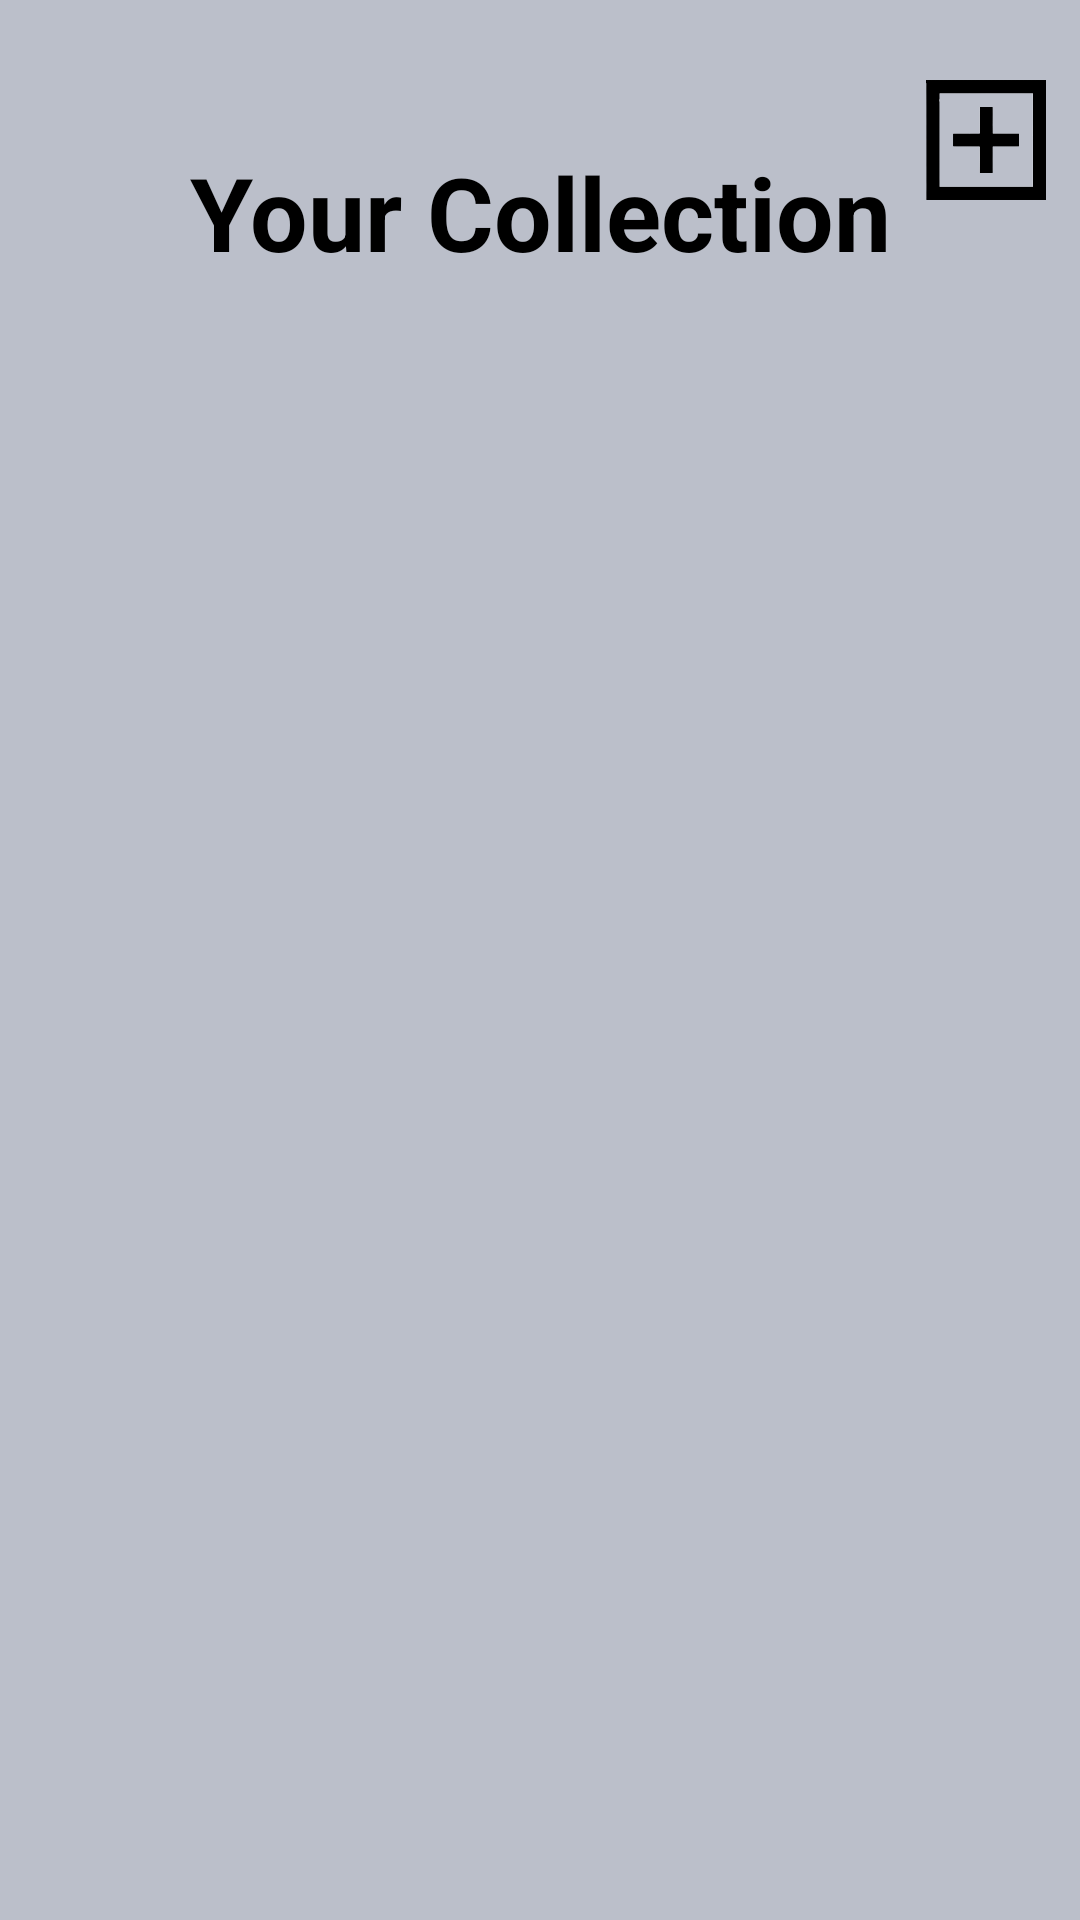

Named icons in this screenshot (1080*1920) and their centers, [x,y]:
add: [986,140]
